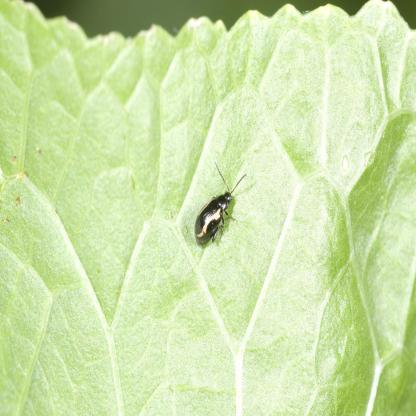beetle: (185, 160, 250, 257)
